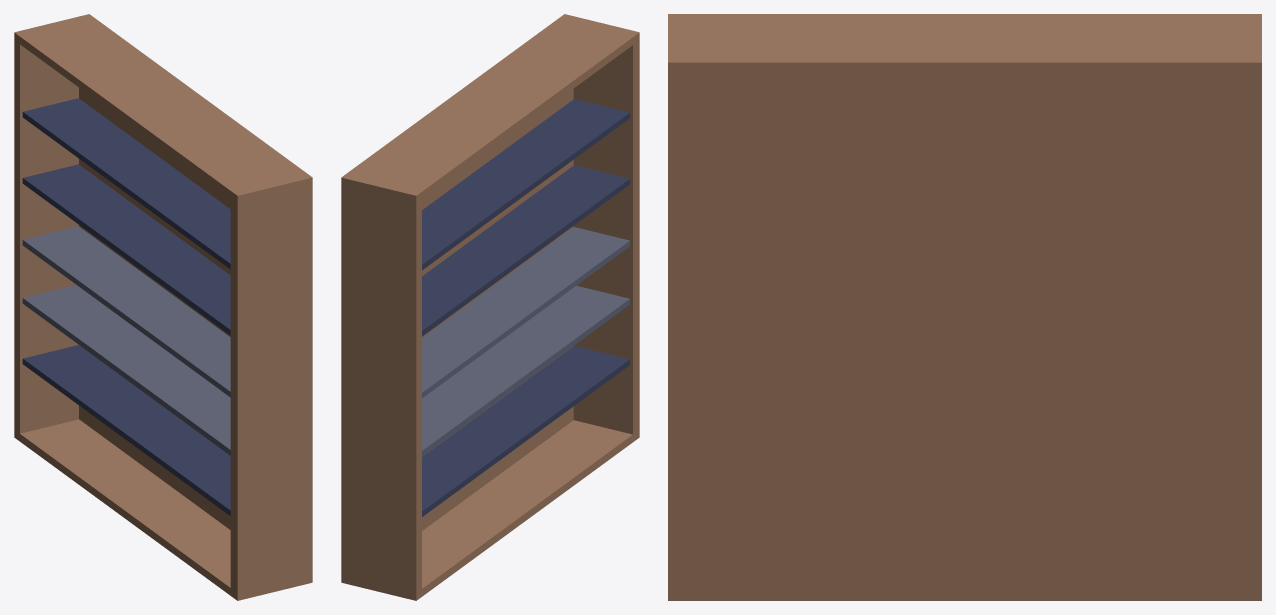
Rendered from BÅcherregal.fbx.
3 renders of one model, left to right at view 1: azimuth 30°, elevation 25°; view 2: azimuth 150°, elevation 25°; view 3: azimuth 270°, elevation 25°, orthographic. The views are drawn at different scales.
Parts seen in each view (by area): view 1: Cube, Plane.003, Plane.002, Plane.004, Plane.001, Plane; view 2: Cube, Plane.002, Plane.004, Plane.003, Plane.001, Plane; view 3: Cube.
Part boxes in pixels (box(x1,y1,x2,y2)): Cube: box(14, 14, 312, 600); Plane.003: box(22, 164, 230, 335); Plane.002: box(22, 226, 230, 397); Plane.004: box(22, 98, 230, 269); Plane.001: box(22, 345, 230, 515); Plane: box(22, 285, 230, 455); Cube: box(341, 14, 639, 600); Plane.002: box(422, 227, 629, 398); Plane.004: box(422, 99, 629, 270); Plane.003: box(422, 165, 629, 336); Plane.001: box(422, 345, 629, 516); Plane: box(422, 285, 629, 456); Cube: box(668, 14, 1261, 600).
Size of the model in its own units: 51.45 by 265 by 265.
